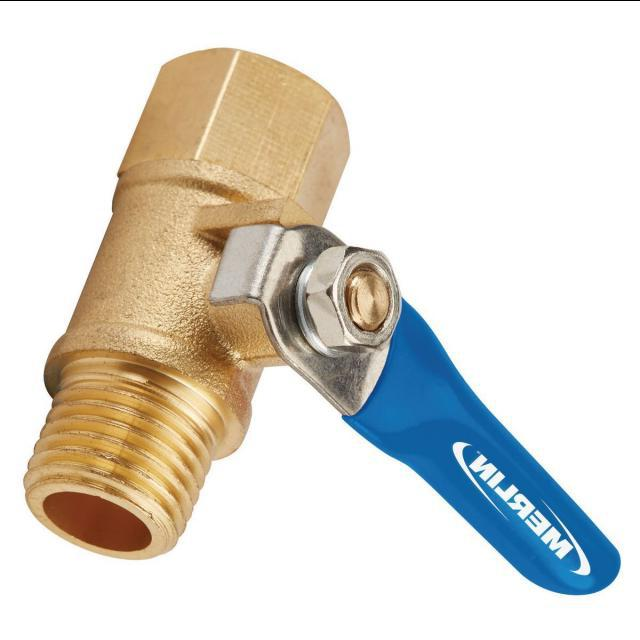closed valve: (23, 44, 621, 600)
